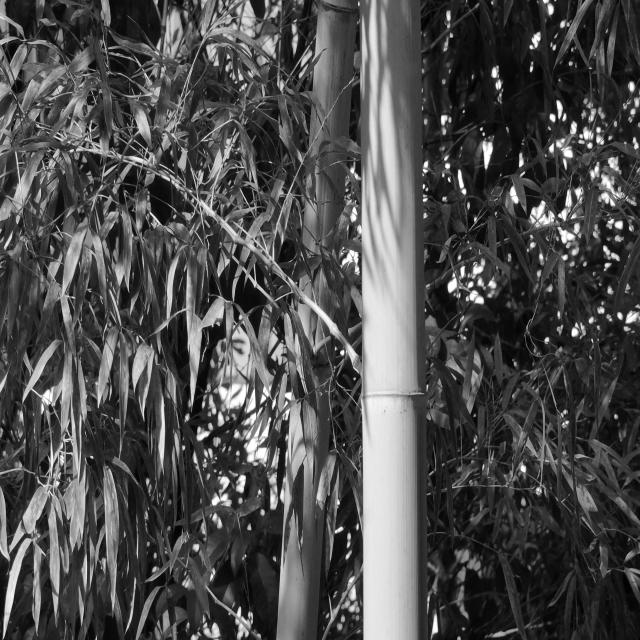Bamboo-shoots: (359, 0, 427, 640)
